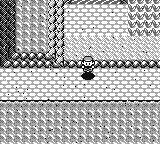captura: (128, 0, 160, 36)
main: (81, 56, 95, 71)
no-caminable: (0, 100, 160, 143), (1, 1, 64, 68)
salto: (92, 60, 159, 68), (64, 60, 81, 67)
